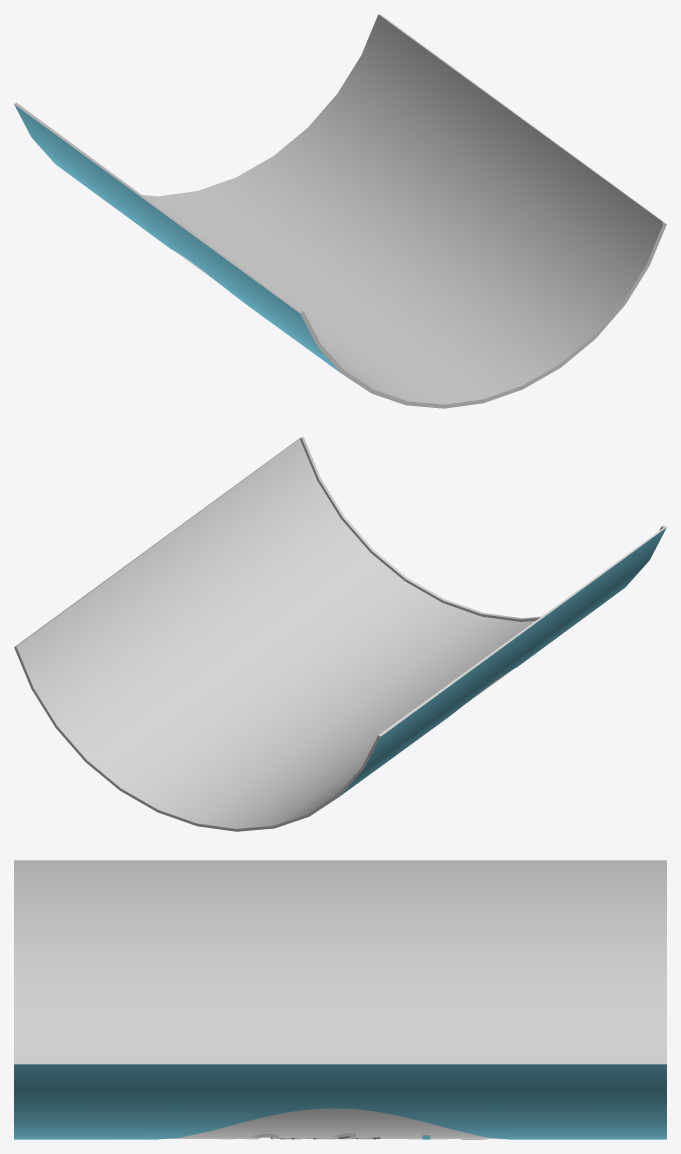
File: jiro_label.gltf
The picture shows the model from 3 angles, top to bottom: view 1: azimuth 30°, elevation 25°; view 2: azimuth 150°, elevation 25°; view 3: azimuth 270°, elevation 25°; orthographic projection. The views are drawn at different scales.
Parts seen in each view (by area): view 1: Part 2; view 2: Part 2; view 3: Part 2.
Part boxes in pixels (x1,y1,x2,y2): Part 2: (14,14,666,408); Part 2: (14,437,666,831); Part 2: (14,860,666,1139).
Size of the model in its own units: 0.015 by 0.0053 by 0.0203.
